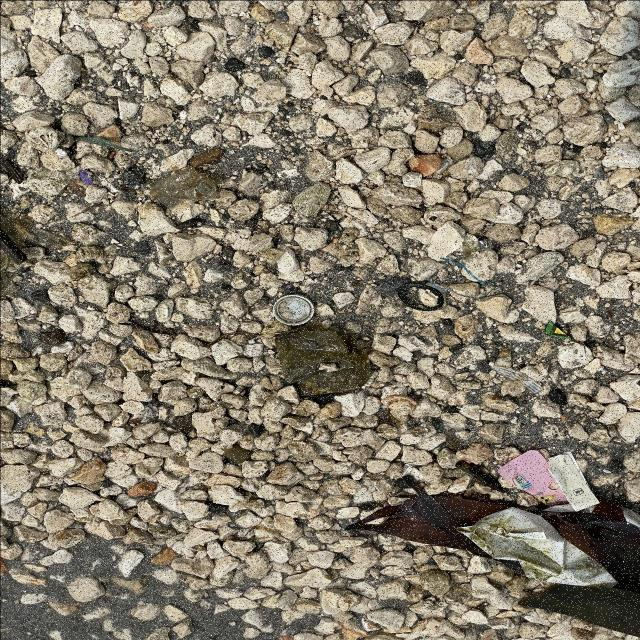plastic_waste: (273, 295, 315, 328)
